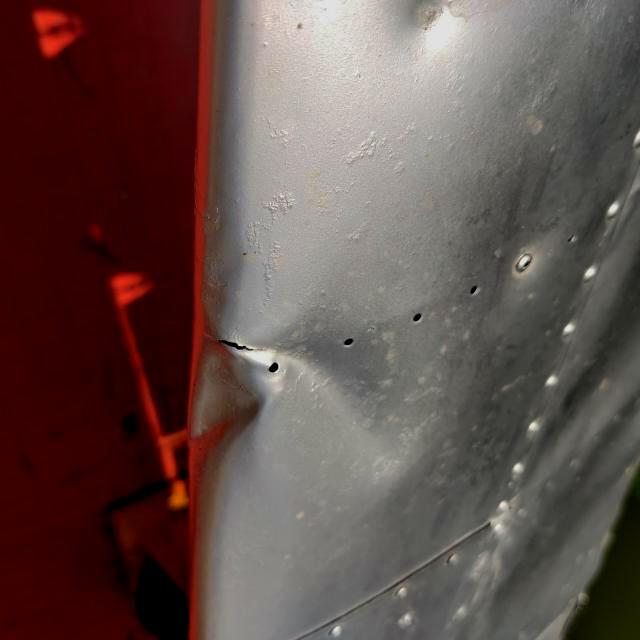crack: (207, 325, 275, 365)
dent: (160, 303, 414, 497)
